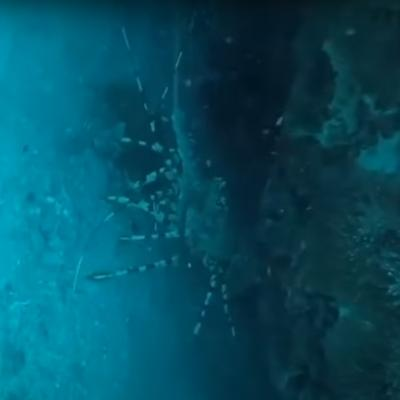lobster: (159, 141, 261, 317)
